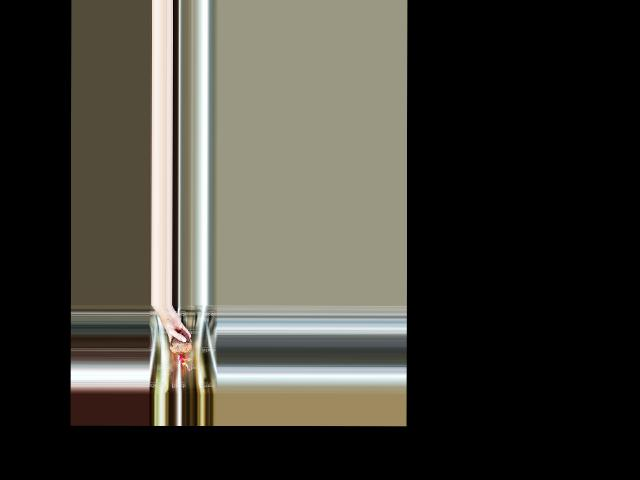beet: (170, 329, 192, 370)
